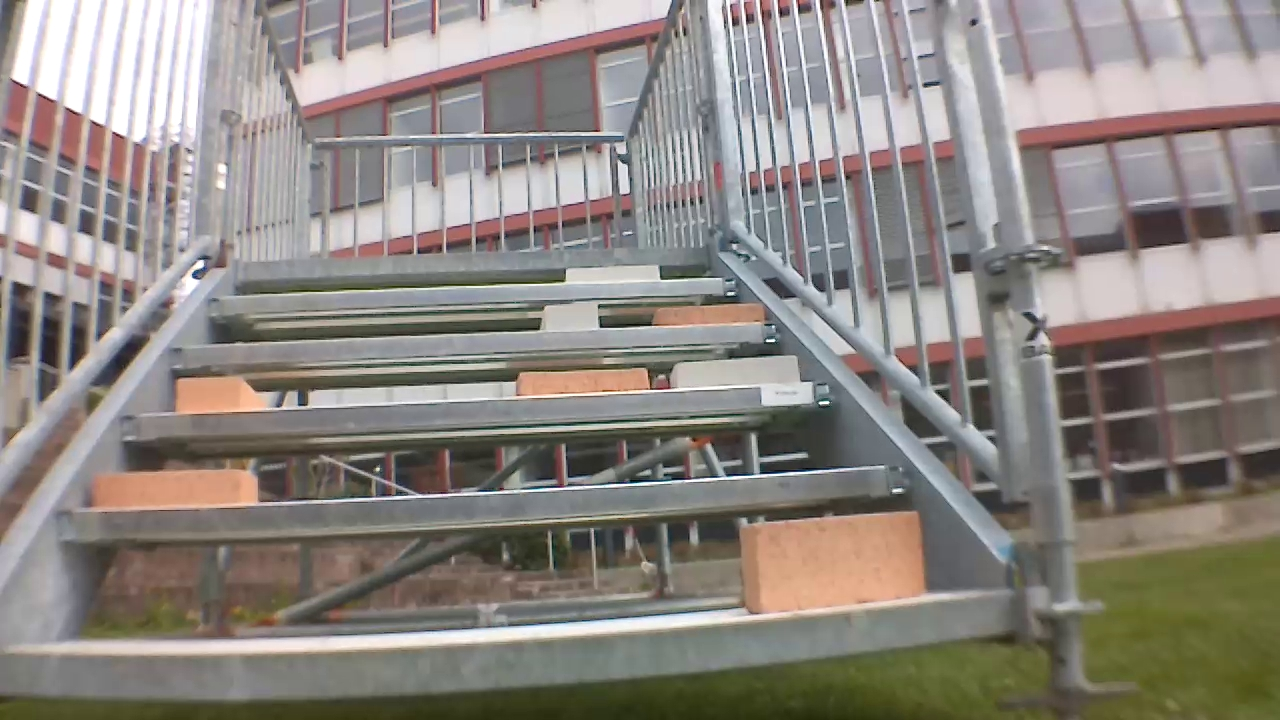brick: (733, 509, 926, 618), (93, 469, 267, 505), (675, 351, 800, 390), (513, 369, 650, 399), (651, 304, 759, 326), (541, 300, 608, 328), (563, 262, 659, 280)
edge: (0, 590, 1025, 710), (50, 464, 902, 545), (117, 380, 838, 448), (162, 324, 777, 376), (203, 277, 741, 318), (237, 242, 710, 273)
stairs: (0, 0, 1099, 715)
steps: (0, 257, 1069, 694)
